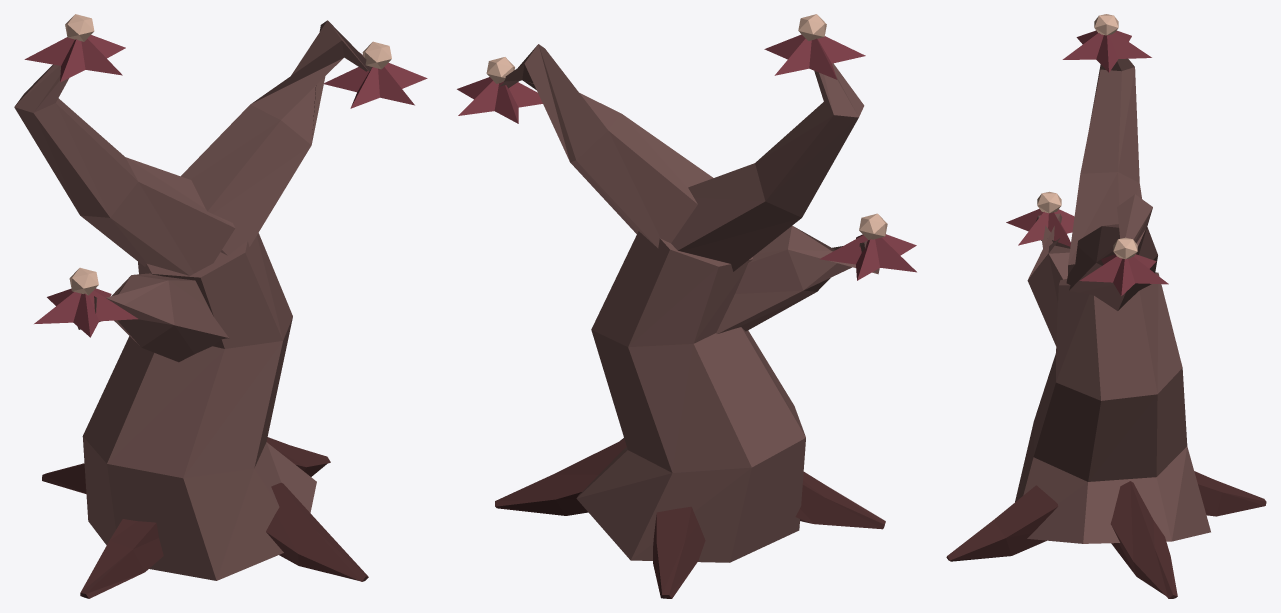
The model's file is tree_harbinger_2.obj.
The picture shows the model from 3 angles, left to right: view 1: azimuth 30°, elevation 25°; view 2: azimuth 150°, elevation 25°; view 3: azimuth 270°, elevation 25°; orthographic projection. The views are drawn at different scales.
Parts seen in each view (by area): view 1: tree_harbinger_2; view 2: tree_harbinger_2; view 3: tree_harbinger_2.
Boxes of the visible parts, bbox=[...] form: tree_harbinger_2: bbox=[14, 14, 427, 598]; tree_harbinger_2: bbox=[457, 14, 916, 598]; tree_harbinger_2: bbox=[946, 14, 1266, 598].
Size of the model in its own units: 0.8991 by 1.08 by 0.6726.
